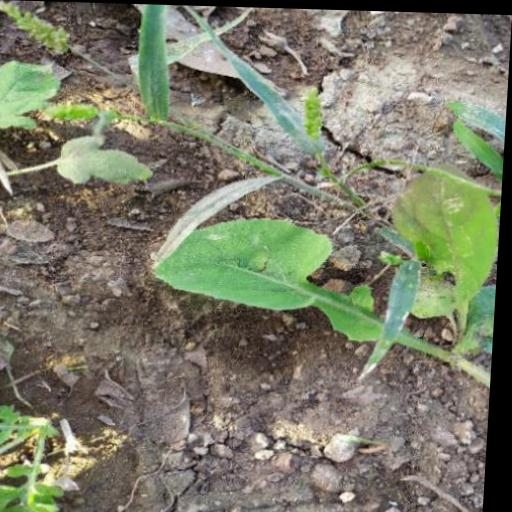weed: (145, 147, 505, 384)
